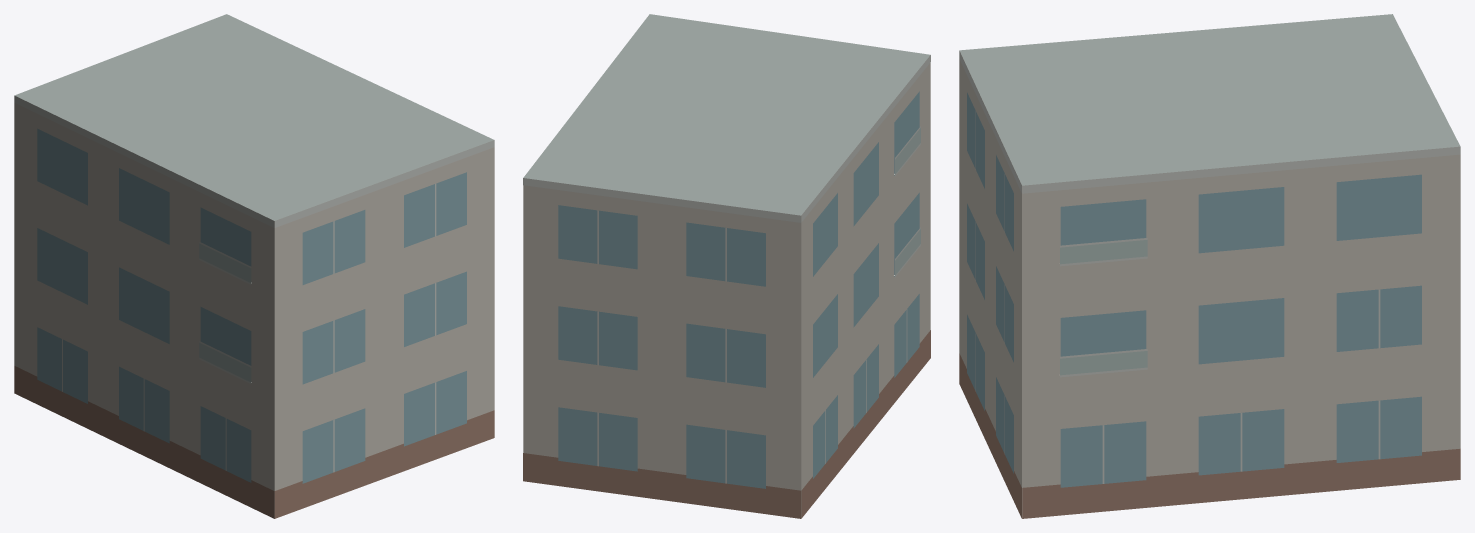
File: survey-upis-32638539.glb
3 views of the same model, side by side, from view 1: azimuth 30°, elevation 25°; view 2: azimuth 150°, elevation 25°; view 3: azimuth 270°, elevation 25° (orthographic). The views are drawn at different scales.
Visible parts, largest first — view 1: survey-upis-32638539.tmp; view 2: survey-upis-32638539.tmp; view 3: survey-upis-32638539.tmp.
Part boxes in pixels (<box>): survey-upis-32638539.tmp: <box>14,14,494,518</box>; survey-upis-32638539.tmp: <box>523,14,930,518</box>; survey-upis-32638539.tmp: <box>959,14,1460,518</box>.
Size of the model in its own units: 11.28 by 10.2 by 13.92.
